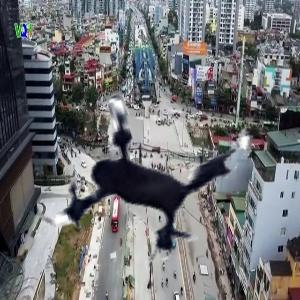drone: (15, 38, 271, 294)
